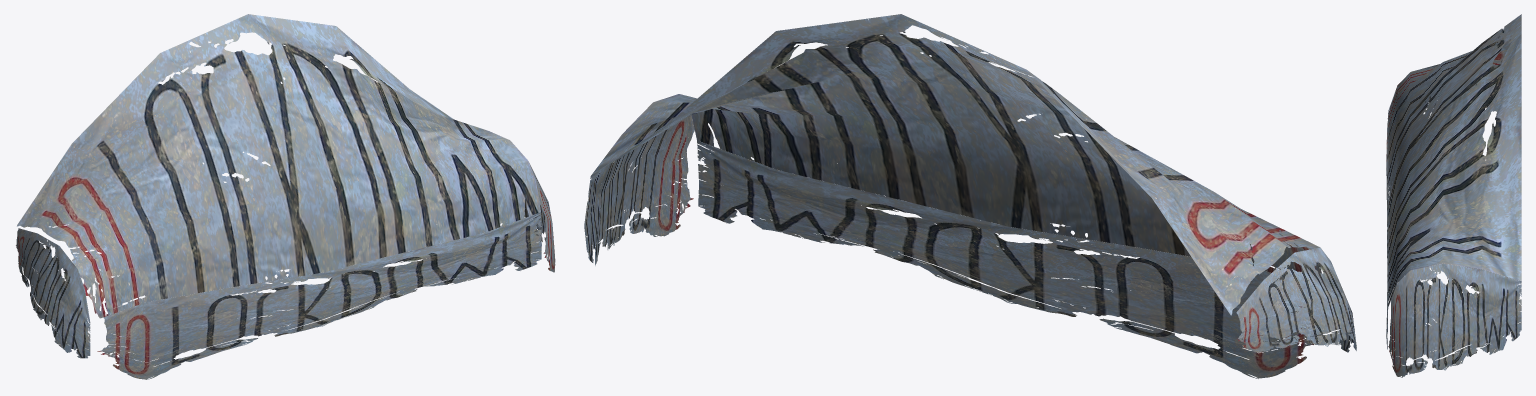
File: SM_Shop_Canopy_02.FBX
3 renders of one model, left to right at view 1: azimuth 30°, elevation 25°; view 2: azimuth 150°, elevation 25°; view 3: azimuth 270°, elevation 25°, orthographic. The views are drawn at different scales.
Visible parts, largest first — view 1: SM_Shop_Canopy_02; view 2: SM_Shop_Canopy_02; view 3: SM_Shop_Canopy_02.
Part boxes in pixels (box(x1,y1,x2,y2)): SM_Shop_Canopy_02: box(16, 14, 555, 379); SM_Shop_Canopy_02: box(584, 14, 1356, 378); SM_Shop_Canopy_02: box(1386, 14, 1521, 377).
Size of the model in its own units: 9.75 by 4.99 by 2.53.
